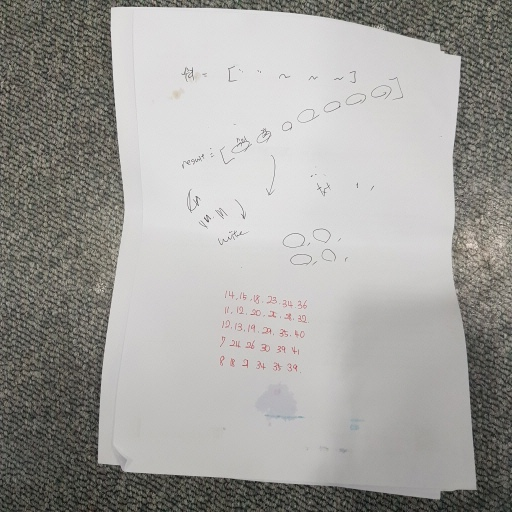Paper_3: (86, 6, 487, 497)
